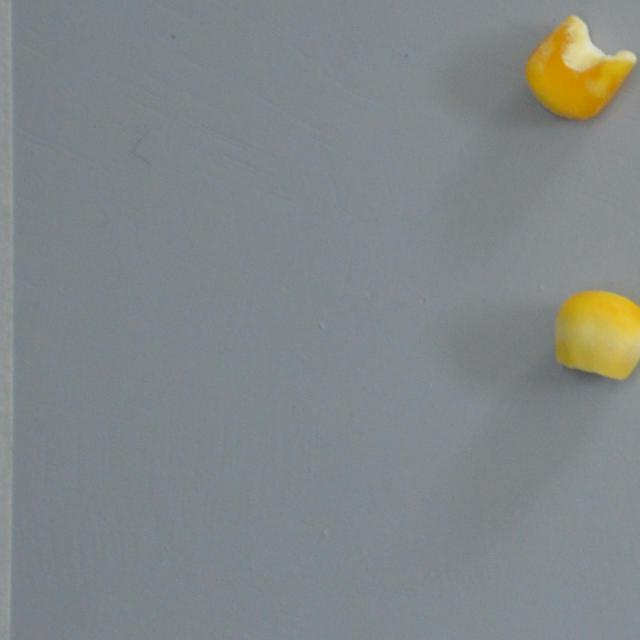no_canjicado: (552, 286, 640, 384)
pelicula: (520, 9, 640, 123)
